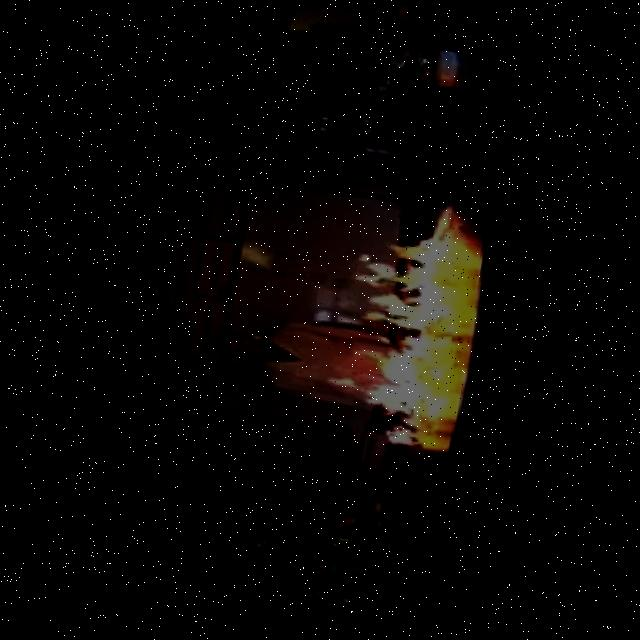Fire: (322, 186, 464, 458)
